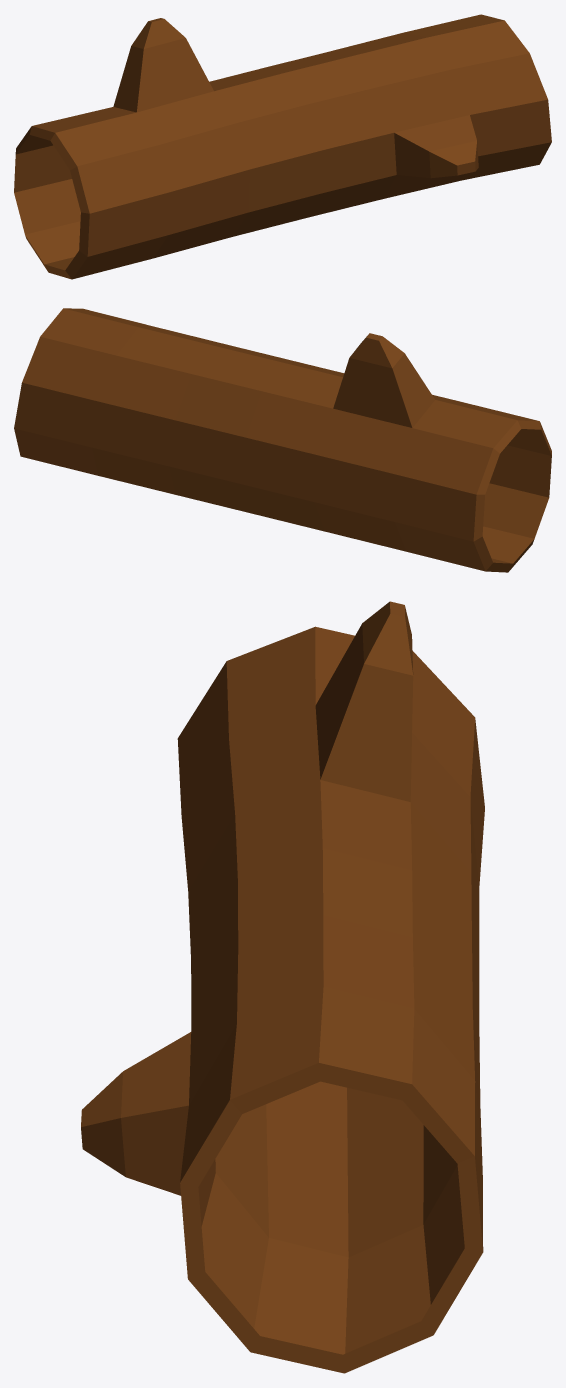
The model's file is Log2.fbx.
3 views of the same model, one above another, from view 1: azimuth 30°, elevation 25°; view 2: azimuth 150°, elevation 25°; view 3: azimuth 270°, elevation 25° (orthographic). The views are drawn at different scales.
Parts seen in each view (by area): view 1: Log2; view 2: Log2; view 3: Log2.
Boxes of the visible parts, x1,y1,x2,y2 form: Log2: [14, 14, 551, 279]; Log2: [14, 308, 551, 572]; Log2: [81, 601, 484, 1373].
Bounding box in the file's own units: 186 × 80.9 × 68.95.
1 material, 1 textured.
